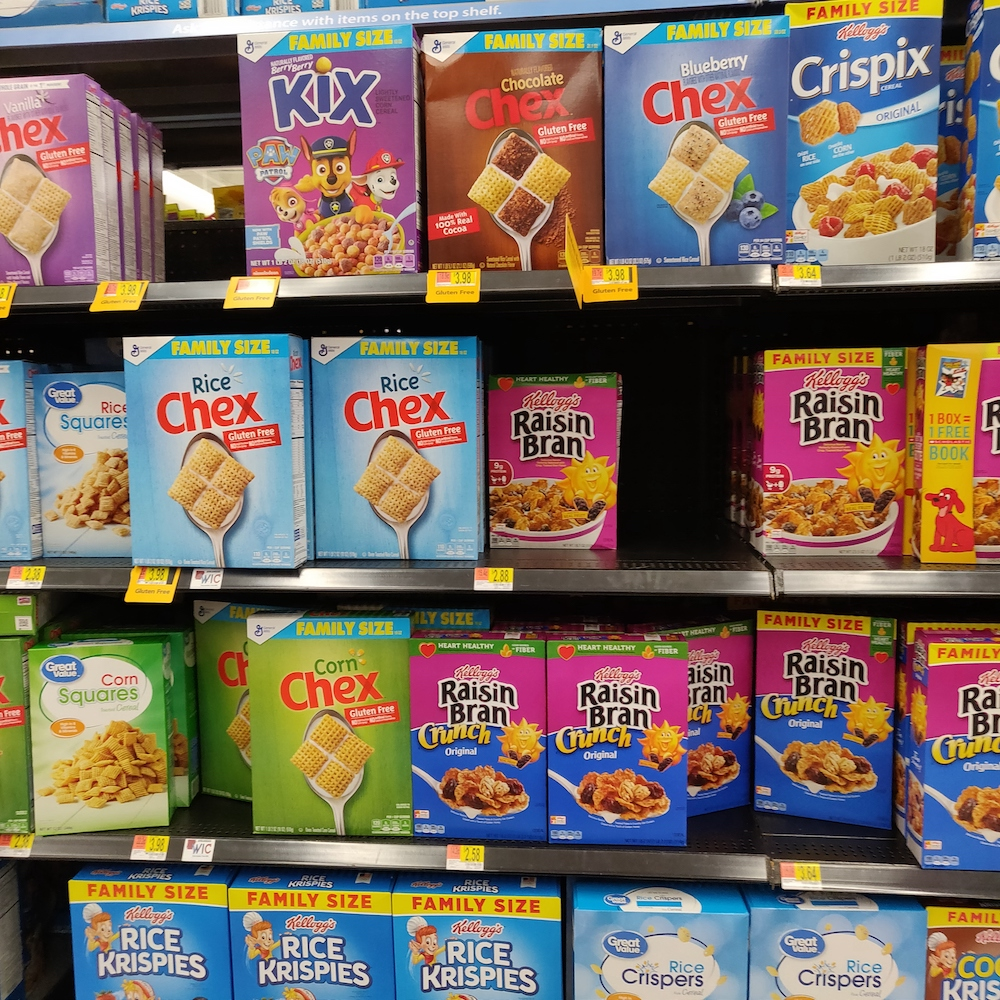Kix Berry -568919964: (233, 39, 428, 276)
